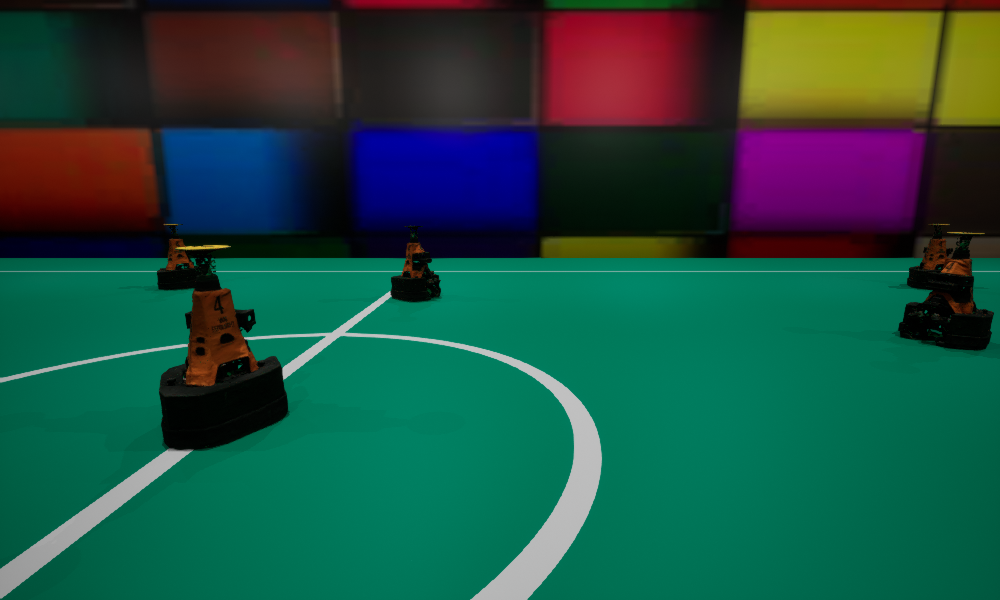0 orange robot TechUnited: (159, 245, 287, 449), (898, 232, 993, 349), (391, 225, 440, 301), (907, 224, 952, 289), (157, 224, 200, 289)
